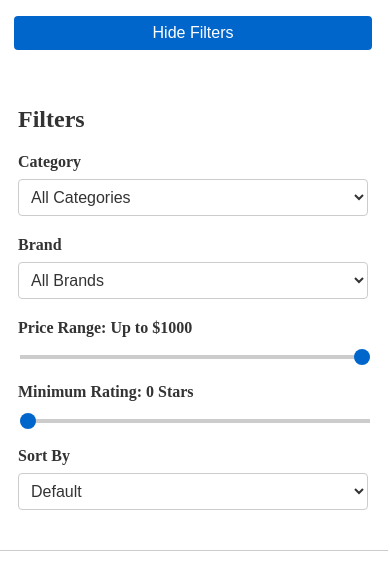
Scenario: App Component › shows and hides the filter panel when the toggle button is clicked
The width and height of the screenshot is (390, 568).
Expected: the heading "Filters" is shown, top-left (18, 106), bottom-right (85, 132)
Click the button "Hide Filters". click: (193, 33)
box: top-left (14, 16), bottom-right (372, 50)
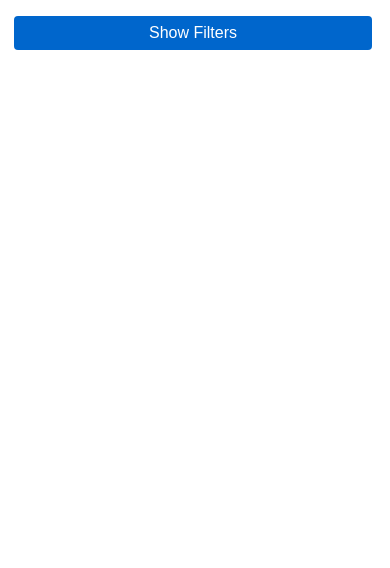
Expected: the button "Show Filters" is shown, top-left (14, 16), bottom-right (372, 50)
